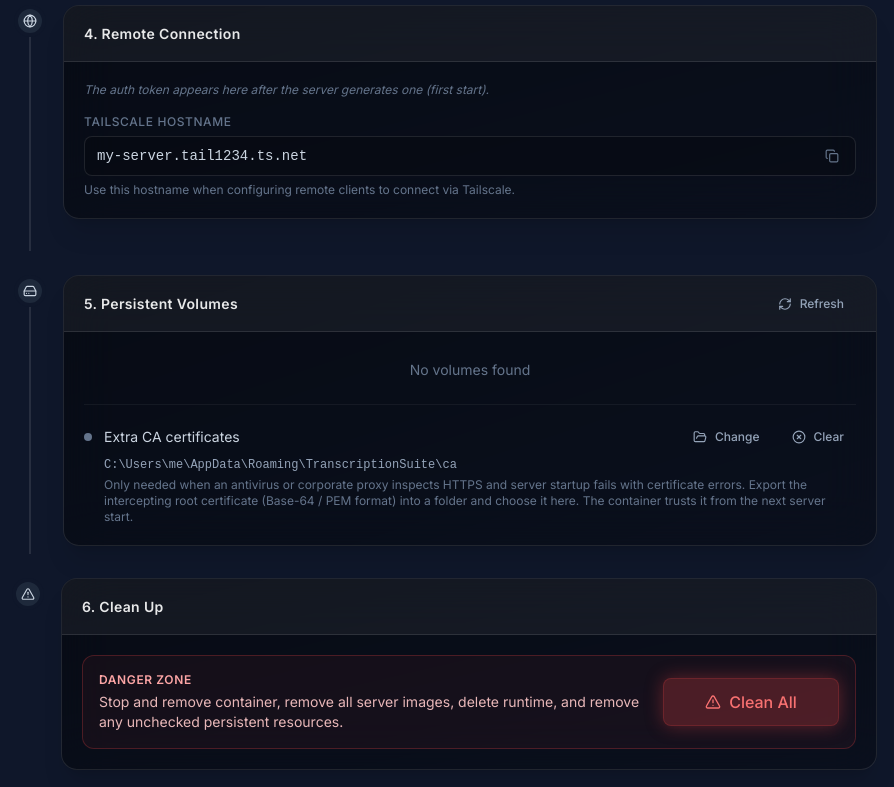
it: Extra CA certificates picker (GH-200) › loads a saved folder on mount and clears it back to unset
(page scrolled)
Expected: the text "C:\\Users\\me\\AppData\\Roaming\\TranscriptionSuite\\ca" is shown, [104,458,457,472]
Step 1. Click the button "Clear" → coordinates (818, 437), box [780,421,856,453]
(page scrolled)
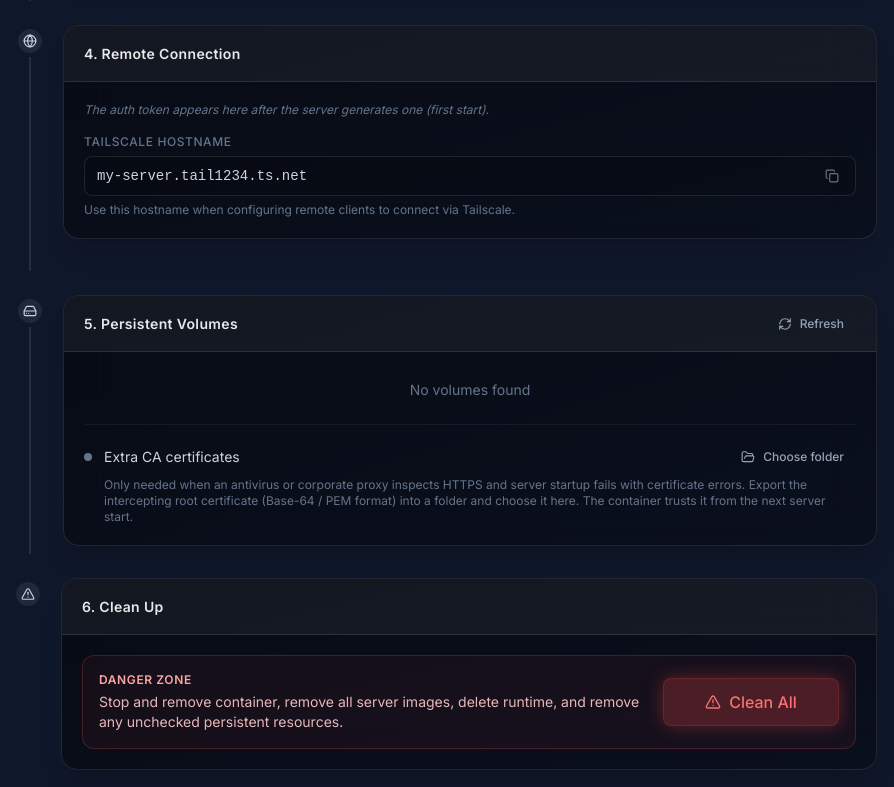
Expected: the text "C:\\Users\\me\\AppData\\Roaming\\TranscriptionSuite\\ca" is gone
Expected: the button "Choose folder" is shown, [729,441,856,473]
